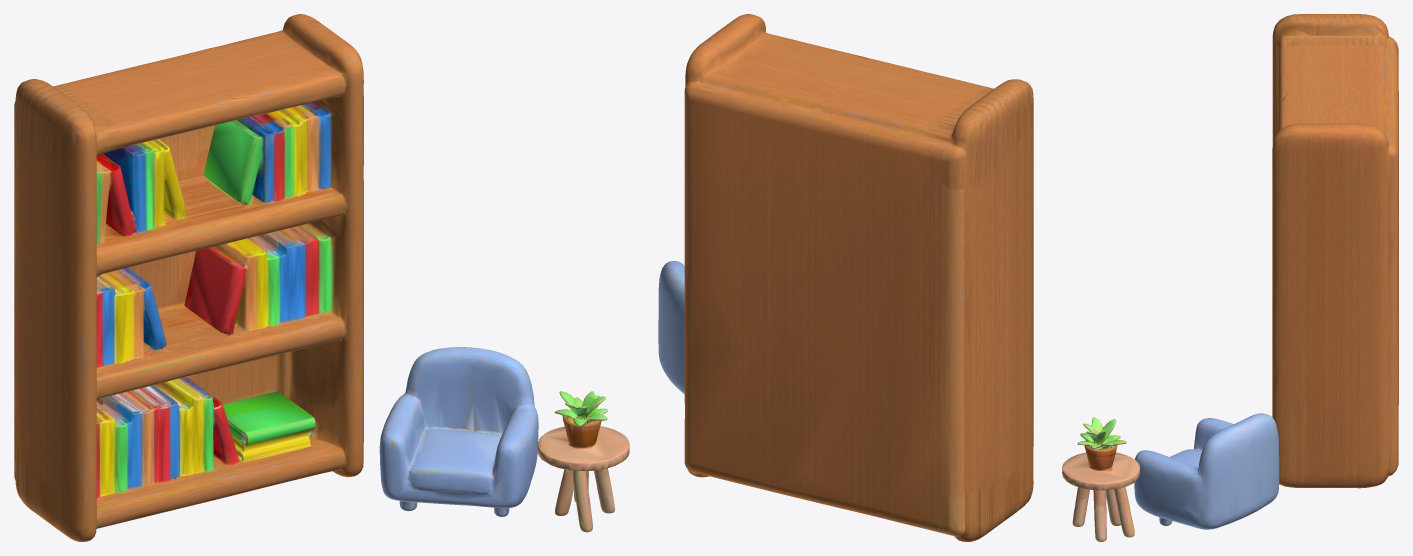
Rendered from bookshelf.glb.
3 renders of one model, left to right at view 1: azimuth 30°, elevation 25°; view 2: azimuth 150°, elevation 25°; view 3: azimuth 270°, elevation 25°, orthographic. The views are drawn at different scales.
Parts seen in each view (by area): view 1: Mesh_0; view 2: Mesh_0; view 3: Mesh_0.
Boxes of the visible parts, bbox=[...] form: Mesh_0: bbox=[14, 14, 629, 541]; Mesh_0: bbox=[658, 14, 1033, 541]; Mesh_0: bbox=[1062, 14, 1398, 541].
Bounding box in the file's own units: 1.91 × 1.78 × 1.48.
1 material, 1 textured.
